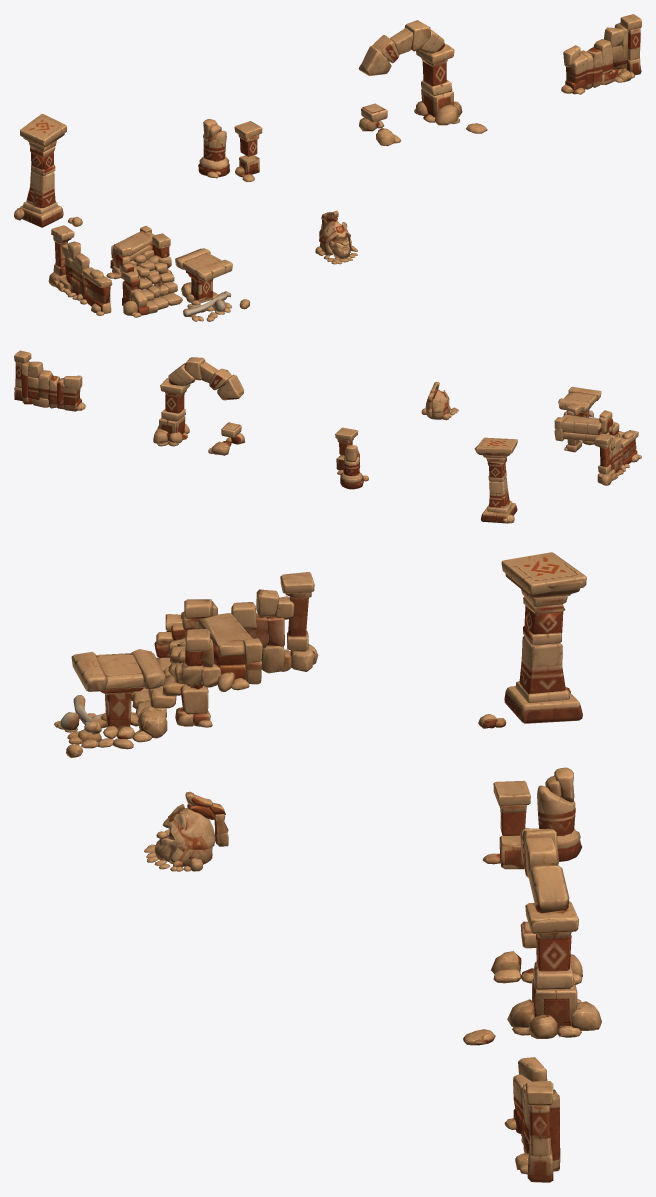
Rendered from bones_pack_08_ancient_ruins_clean.glb.
3 renders of one model, top to bottom at view 1: azimuth 30°, elevation 25°; view 2: azimuth 150°, elevation 25°; view 3: azimuth 270°, elevation 25°, orthographic. The views are drawn at different scales.
Parts seen in each view (by area): view 1: ruin_wall_stairs_altar_ensemble, ruin_arch, ruin_wall_a, ruin_column_a, ruin_column_b, ruin_statue; view 2: ruin_wall_stairs_altar_ensemble, ruin_arch, ruin_wall_a, ruin_column_a, ruin_column_b, ruin_statue; view 3: ruin_wall_stairs_altar_ensemble, ruin_arch, ruin_column_a, ruin_column_b, ruin_wall_a, ruin_statue.
Boxes of the visible parts, left/top/right/bottom form: ruin_wall_stairs_altar_ensemble: left=48, top=225, right=249, bottom=321; ruin_arch: left=358, top=20, right=487, bottom=146; ruin_wall_a: left=561, top=14, right=641, bottom=94; ruin_column_a: left=14, top=113, right=82, bottom=227; ruin_column_b: left=198, top=119, right=262, bottom=181; ruin_statue: left=315, top=210, right=357, bottom=264; ruin_wall_stairs_altar_ensemble: left=554, top=387, right=641, bottom=485; ruin_arch: left=153, top=357, right=245, bottom=455; ruin_wall_a: left=14, top=350, right=85, bottom=411; ruin_column_a: left=474, top=437, right=517, bottom=523; ruin_column_b: left=335, top=427, right=368, bottom=489; ruin_statue: left=421, top=382, right=458, bottom=420; ruin_wall_stairs_altar_ensemble: left=54, top=572, right=318, bottom=757; ruin_arch: left=463, top=828, right=601, bottom=1045; ruin_column_a: left=478, top=552, right=586, bottom=728; ruin_column_b: left=482, top=767, right=581, bottom=869; ruin_wall_a: left=504, top=1057, right=560, bottom=1182; ruin_statue: left=144, top=791, right=228, bottom=871.
Bounding box in the file's own units: 30.13 × 4.5 × 13.4.
Materials: 1 (1 with a texture image).
